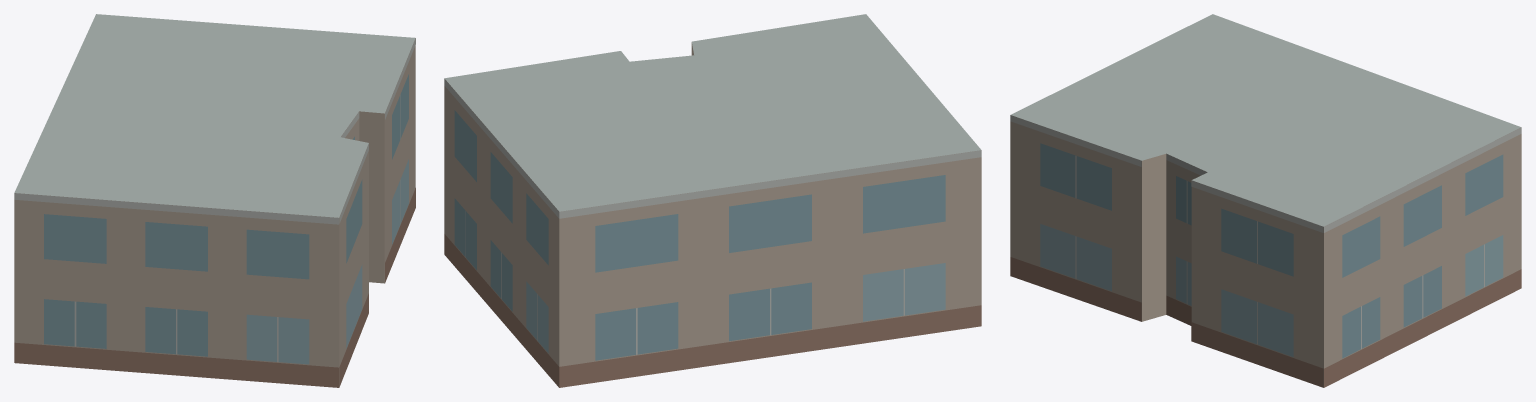
Rendered from survey-upis-32892680.glb.
The picture shows the model from 3 angles, left to right: view 1: azimuth 30°, elevation 25°; view 2: azimuth 150°, elevation 25°; view 3: azimuth 270°, elevation 25°; orthographic projection. The views are drawn at different scales.
Visible parts, largest first — view 1: survey-upis-32892680.tmp; view 2: survey-upis-32892680.tmp; view 3: survey-upis-32892680.tmp.
Part boxes in pixels (bbox=[...]): survey-upis-32892680.tmp: bbox=[14, 14, 415, 387]; survey-upis-32892680.tmp: bbox=[444, 14, 981, 387]; survey-upis-32892680.tmp: bbox=[1010, 14, 1521, 387].
Bounding box in the file's own units: 17.28 × 6.1 × 17.54.
